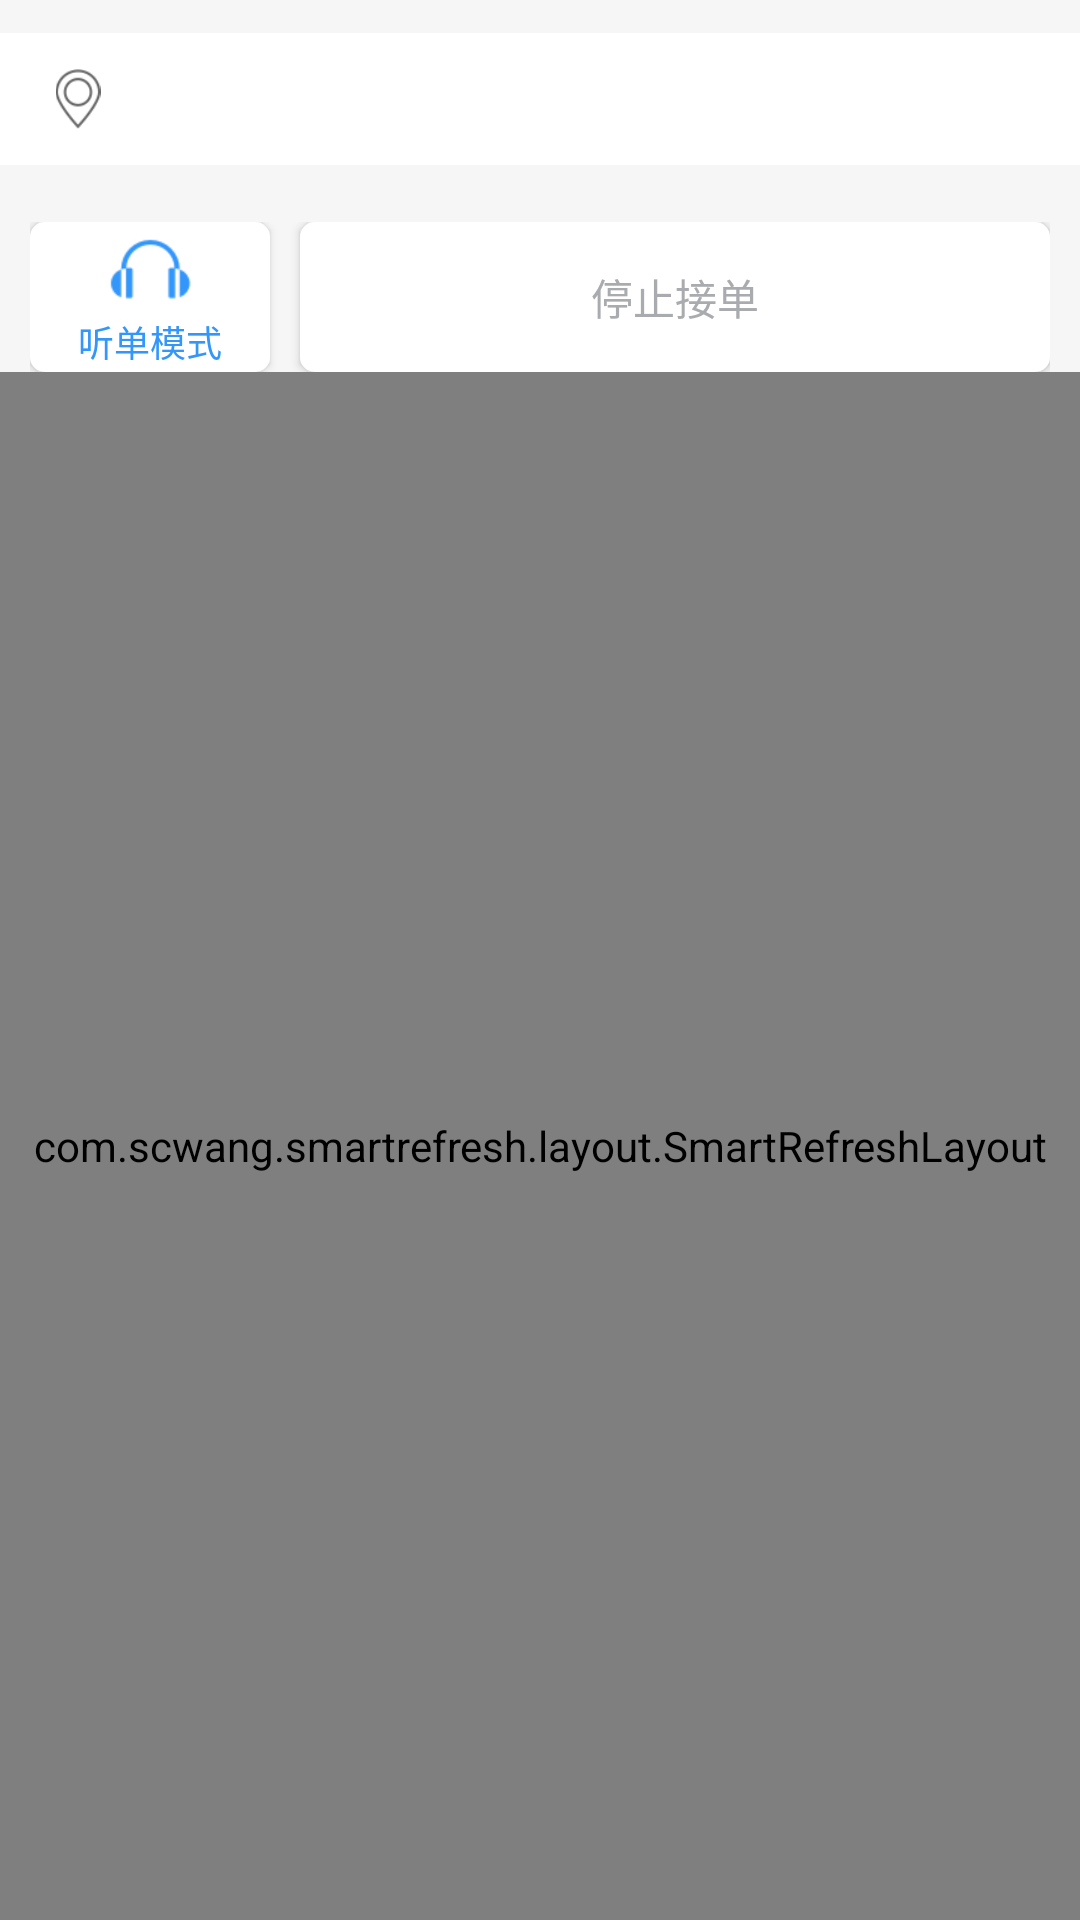

Named icons in this screenshot (1080px x 1920px) and their bounding boxes, (x1, y1, x2, y2):
location: (56, 69, 101, 128)
